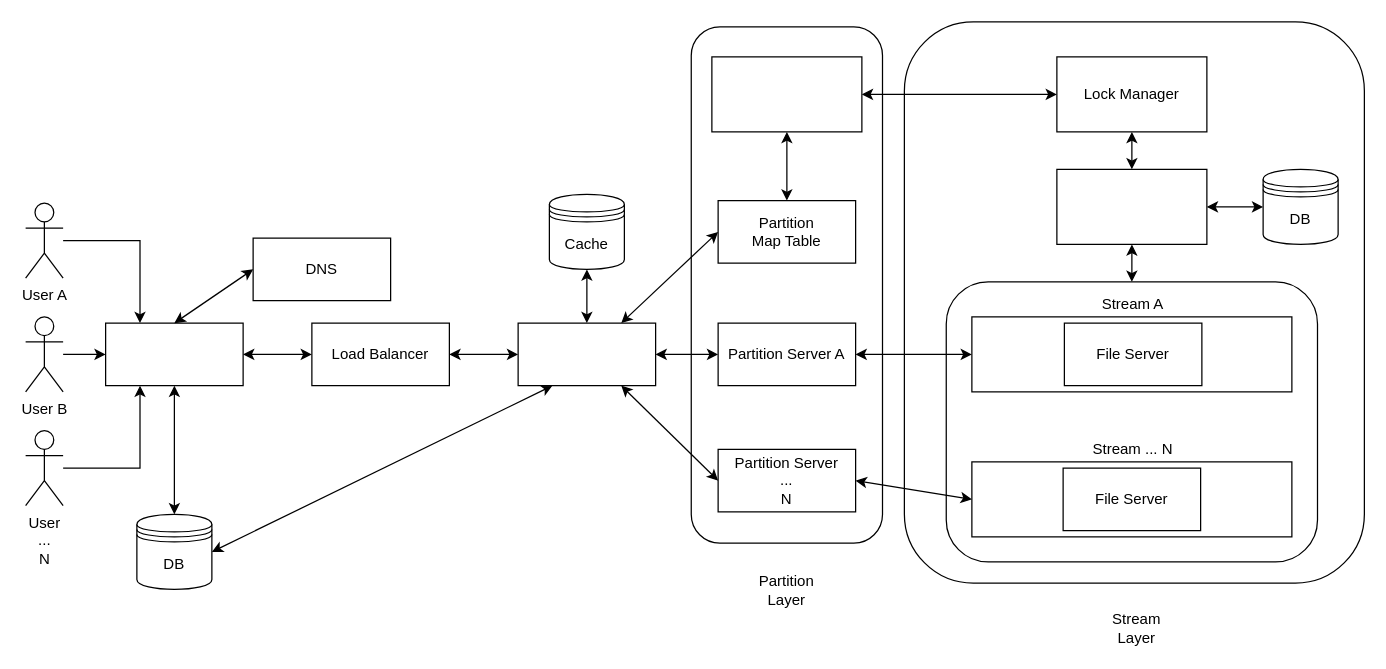
This 1386x669 diagram has some shape labels left out. The shapes that lost their labels are listed below. From the top down, each one's centre as x and y in pixels, then its label:
pixel 786 94: Partition Manager
pixel 1131 206: Stream Manager
pixel 173 354: Multi-Tenant Cluster Manager
pixel 586 354: API Server
